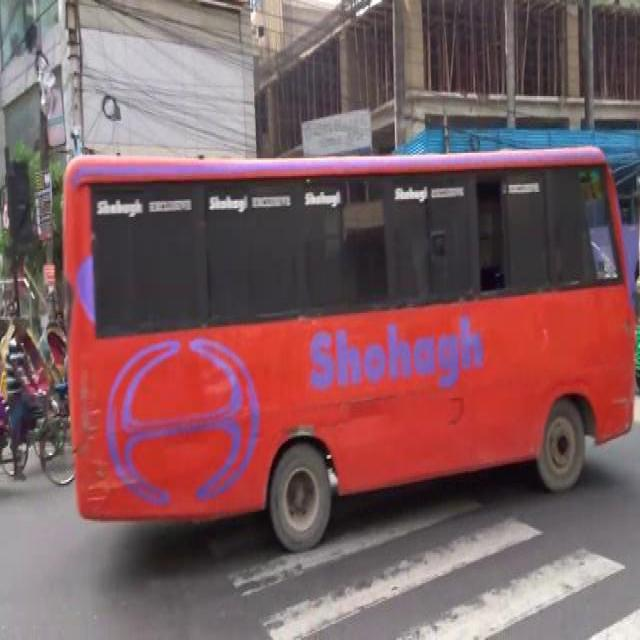13: (0, 319, 74, 488)
Truck: (60, 148, 634, 535)
